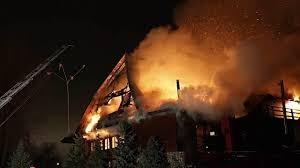fire: (81, 107, 115, 144), (277, 86, 300, 118)
